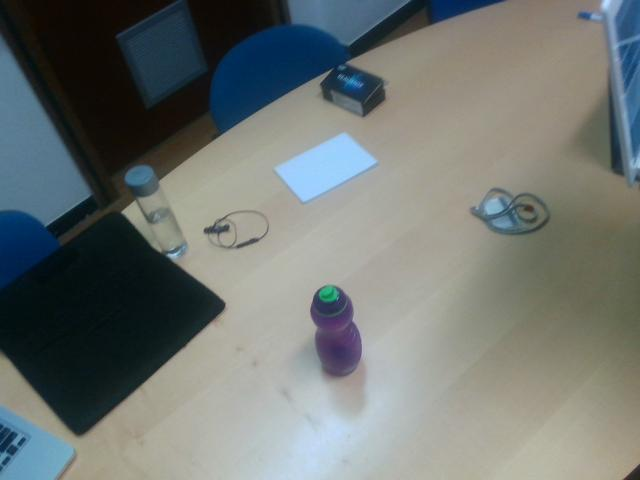bottle: (310, 285, 363, 376)
